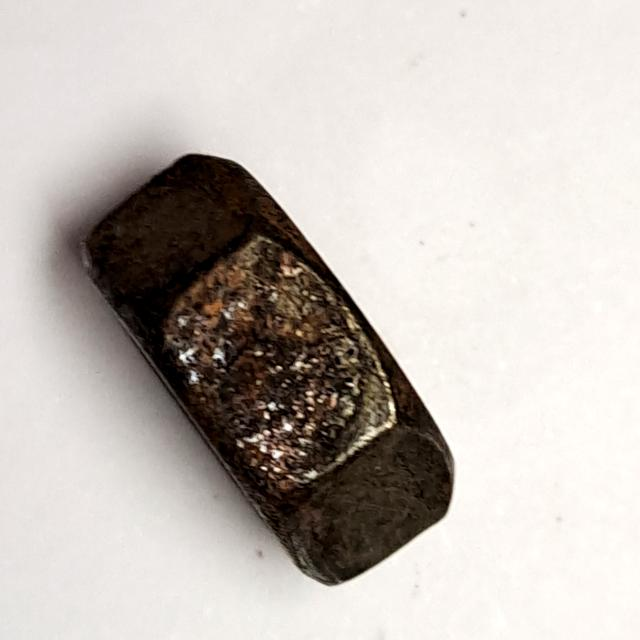Side_Rust: (61, 139, 480, 611)
